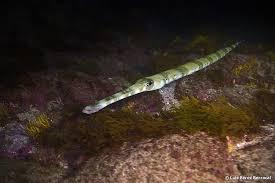Fistularia commersonii: (80, 37, 245, 116)
